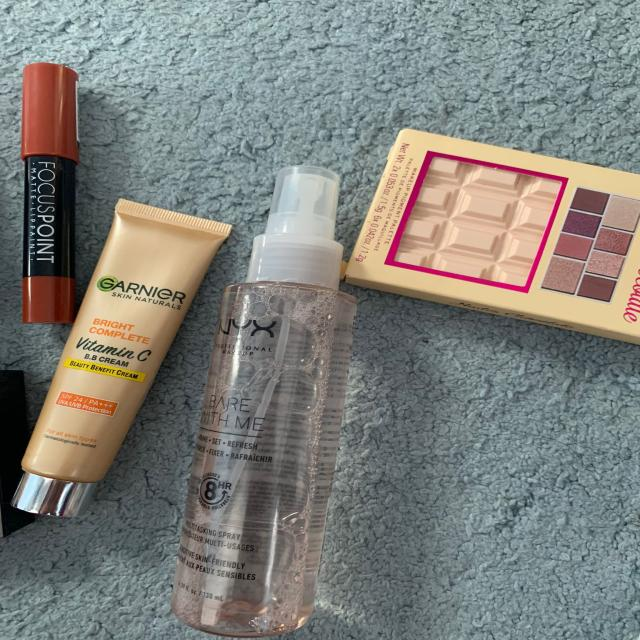bb cream: (0, 191, 242, 519)
concealer: (0, 44, 89, 344)
powder: (350, 107, 640, 373)
primer: (180, 130, 330, 640)
